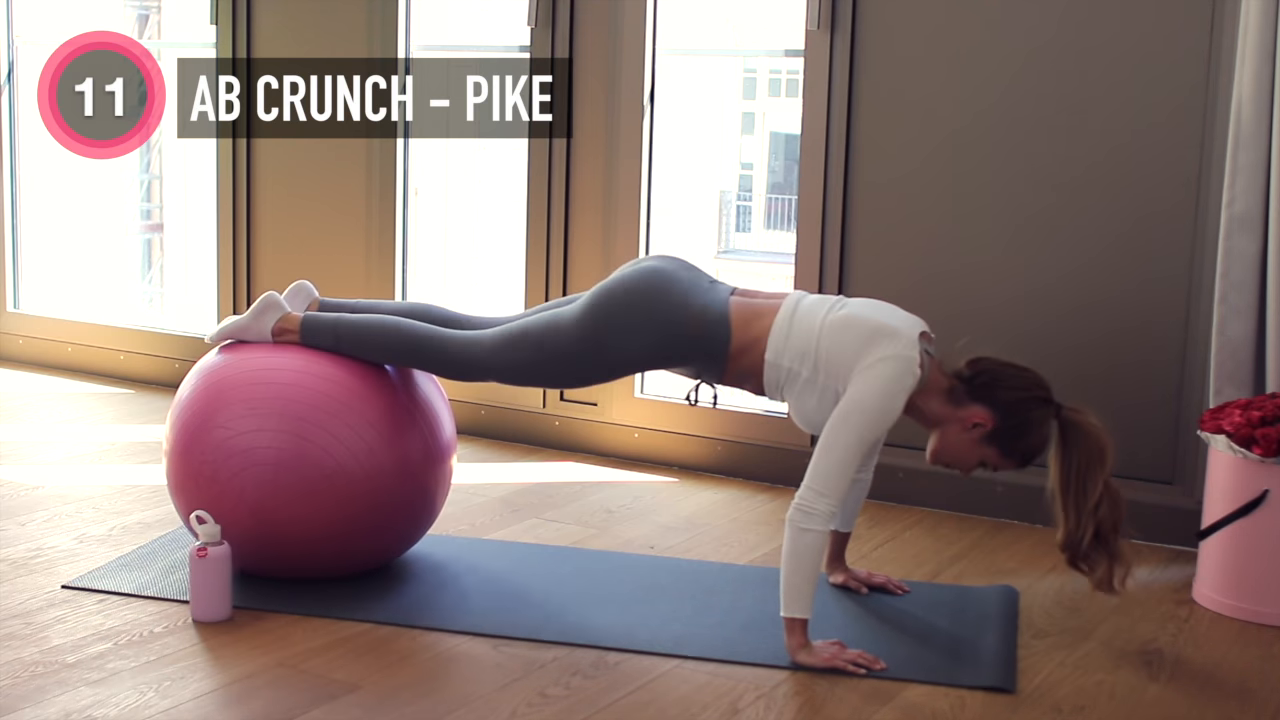yogaball: (160, 340, 464, 589)
